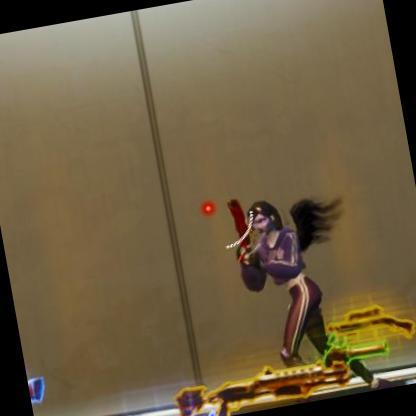person: (224, 181, 354, 401)
